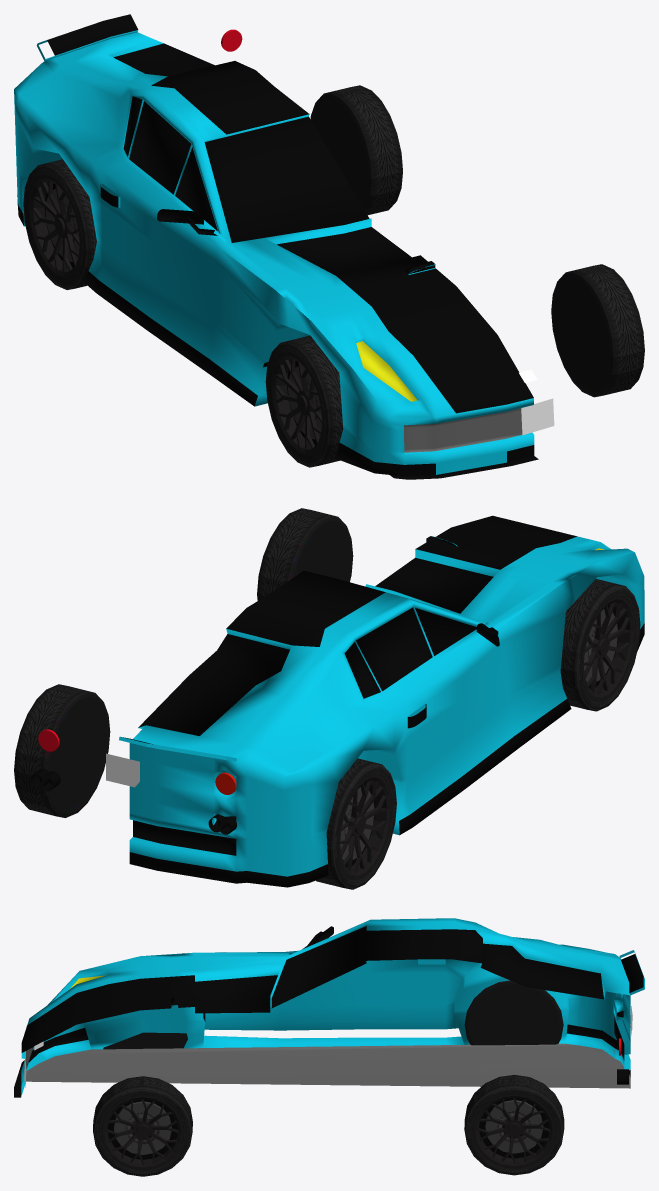
Rendered from ferrari.glb.
3 views of the same model, one above another, from view 1: azimuth 30°, elevation 25°; view 2: azimuth 150°, elevation 25°; view 3: azimuth 270°, elevation 25° (orthographic). The views are drawn at different scales.
Parts seen in each view (by area): view 1: Cube, Lamborghini_Aventador_Wheel_FR.003, Lamborghini_Aventador_Wheel_FR, Lamborghini_Aventador_Wheel_FR.002, Lamborghini_Aventador_Wheel_FR.001, pngegg (2); view 2: Cube, Lamborghini_Aventador_Wheel_FR.002, Lamborghini_Aventador_Wheel_FR, Lamborghini_Aventador_Wheel_FR.001, Lamborghini_Aventador_Wheel_FR.003, pngegg (2).001; view 3: Cube, Lamborghini_Aventador_Wheel_FR.002, Lamborghini_Aventador_Wheel_FR.003, Lamborghini_Aventador_Wheel_FR.001, Lamborghini_Aventador_Wheel_FR.
Part boxes in pixels (box(x1,y1,x2,y2)): Cube: box(14, 14, 538, 479); Lamborghini_Aventador_Wheel_FR.003: box(551, 264, 644, 397); Lamborghini_Aventador_Wheel_FR: box(265, 335, 343, 467); Lamborghini_Aventador_Wheel_FR.002: box(310, 85, 402, 215); Lamborghini_Aventador_Wheel_FR.001: box(23, 159, 96, 289); pngegg (2): box(521, 398, 554, 435); Cube: box(119, 515, 644, 887); Lamborghini_Aventador_Wheel_FR.002: box(14, 684, 110, 817); Lamborghini_Aventador_Wheel_FR: box(560, 579, 640, 711); Lamborghini_Aventador_Wheel_FR.001: box(316, 758, 396, 889); Lamborghini_Aventador_Wheel_FR.003: box(257, 508, 353, 600); pngegg (2).001: box(106, 753, 139, 787); Cube: box(14, 918, 644, 1097); Lamborghini_Aventador_Wheel_FR.002: box(464, 1075, 564, 1175); Lamborghini_Aventador_Wheel_FR.003: box(93, 1076, 192, 1176); Lamborghini_Aventador_Wheel_FR.001: box(464, 980, 563, 1045); Lamborghini_Aventador_Wheel_FR: box(103, 1032, 187, 1049).
Bounding box in the file's own units: 1.5 × 0.8876 × 3.19.
Materials: 19 (5 with a texture image).
